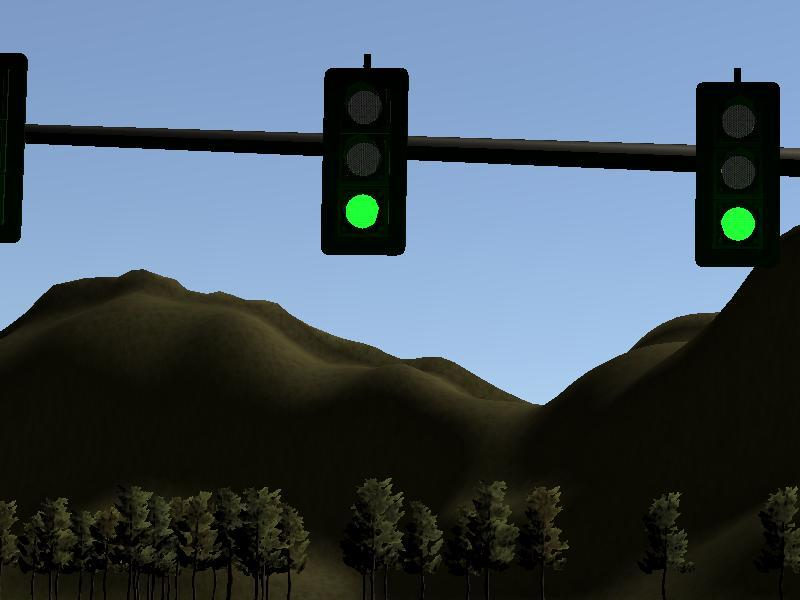Green: (695, 82, 781, 267), (325, 69, 407, 255)
